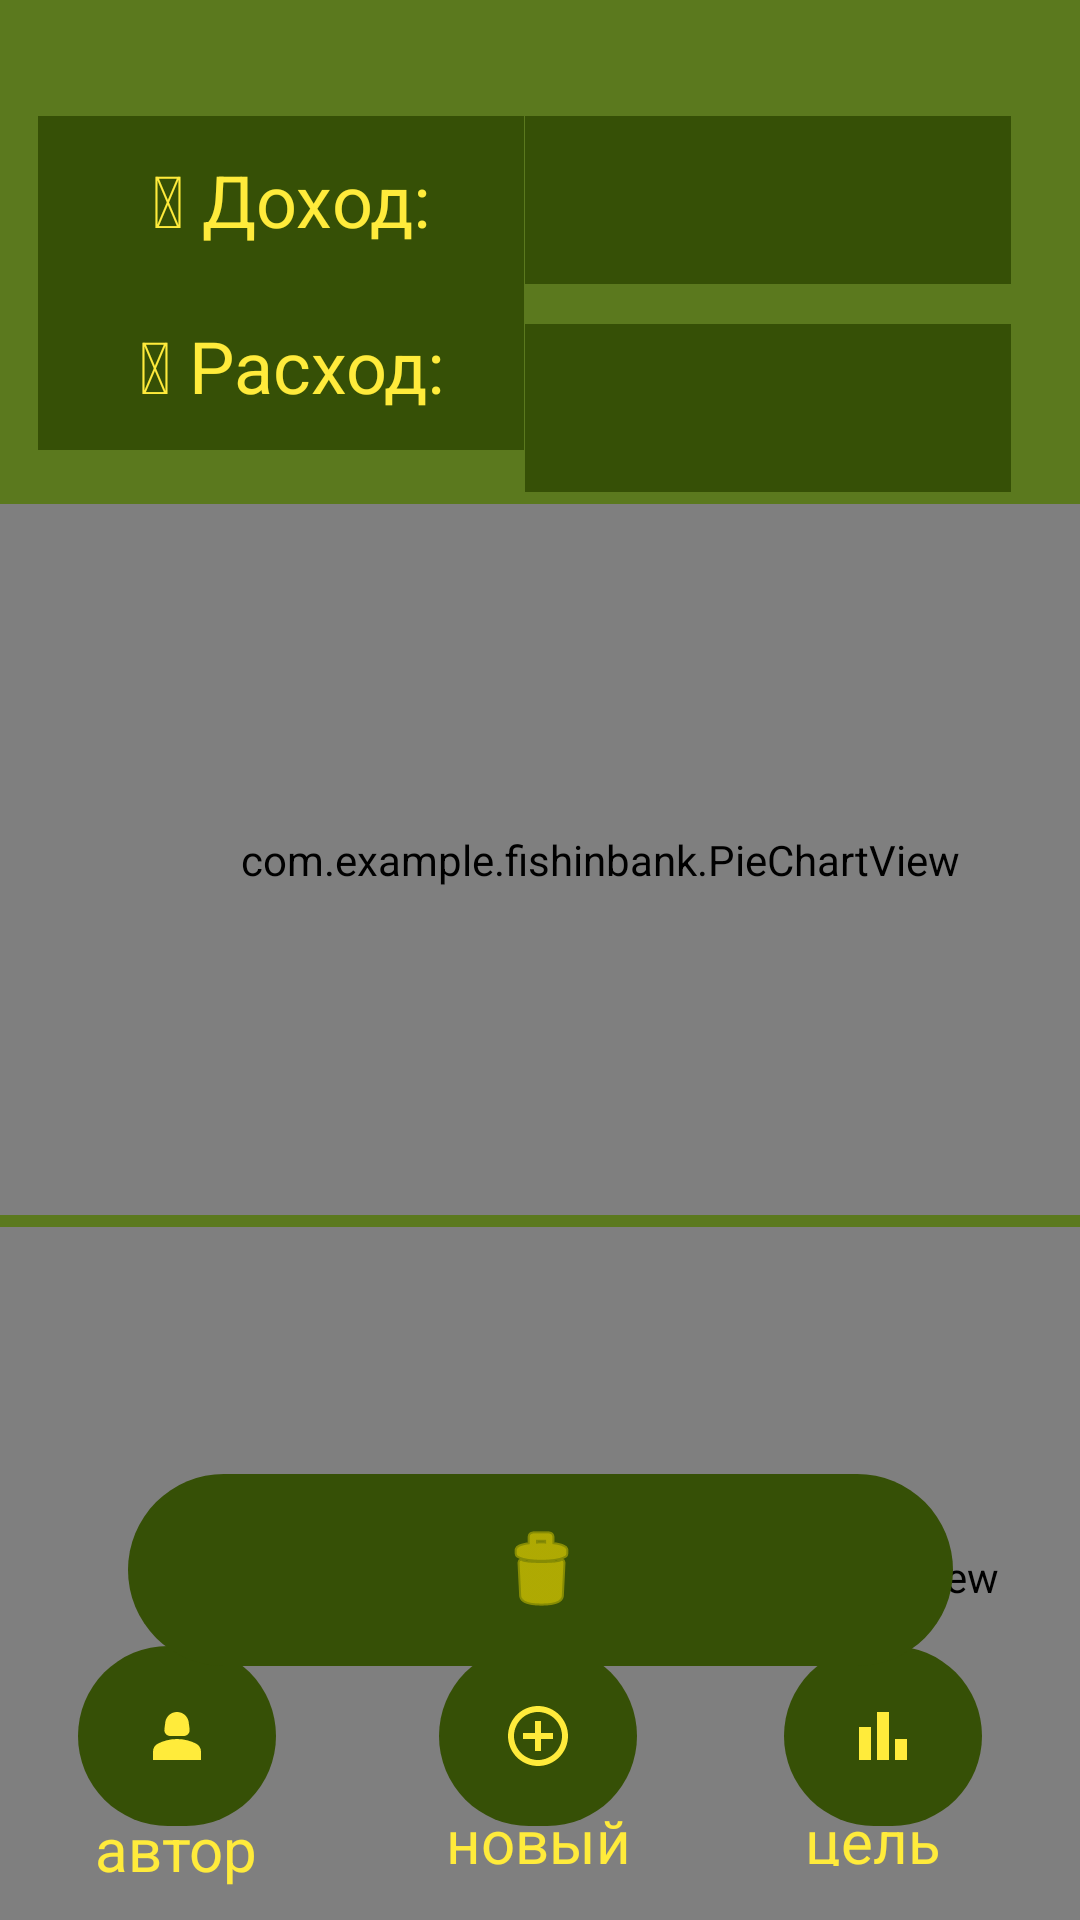

Point at icon controls on the screen. Image size 1080x1920, points as (x=x, y=y).
add circle: (x=538, y=1736)
bar chart: (x=883, y=1736)
person: (x=177, y=1736)
